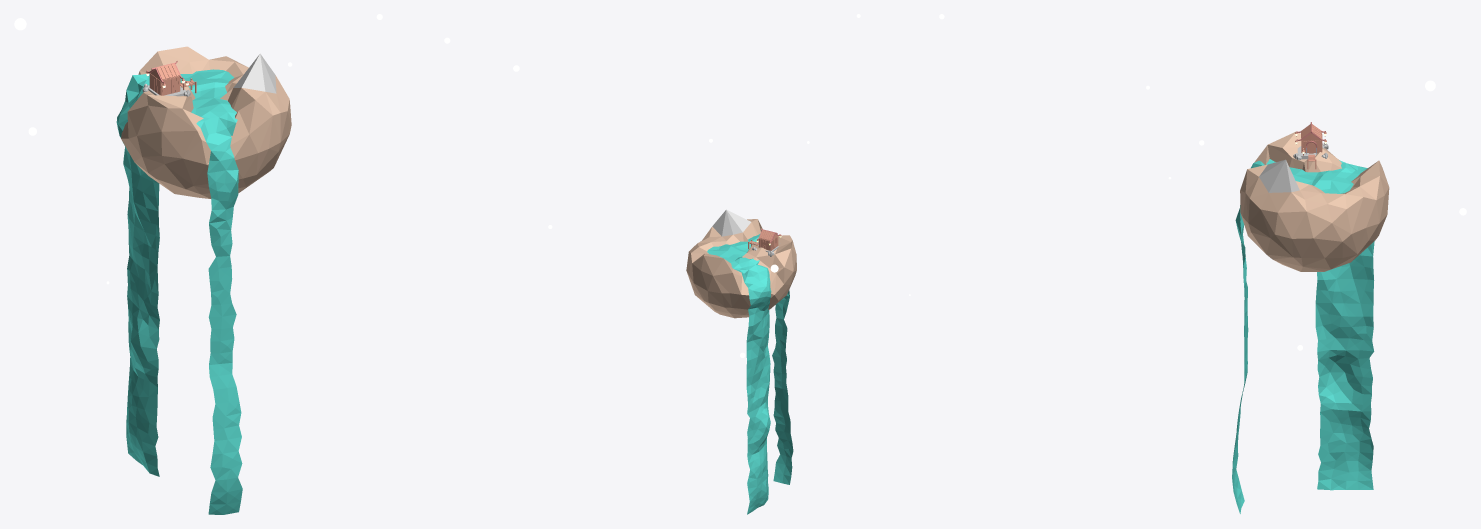
The model's file is login-planet.glb.
3 renders of one model, left to right at view 1: azimuth 30°, elevation 25°; view 2: azimuth 150°, elevation 25°; view 3: azimuth 270°, elevation 25°, orthographic. The views are drawn at different scales.
Parts seen in each view (by area): view 1: Plane, Mball.017, Cube.044; view 2: Plane, Mball.017; view 3: Plane, Mball.017.
Part boxes in pixels (x1,y1,x2,y2): Plane: [116, 69, 242, 514]; Mball.017: [121, 46, 291, 198]; Cube.044: [149, 63, 180, 95]; Plane: [707, 234, 793, 514]; Mball.017: [686, 209, 796, 318]; Plane: [1232, 159, 1374, 513]; Mball.017: [1240, 131, 1389, 271].
Size of the model in its own units: 59.46 by 68.8 by 63.64.
